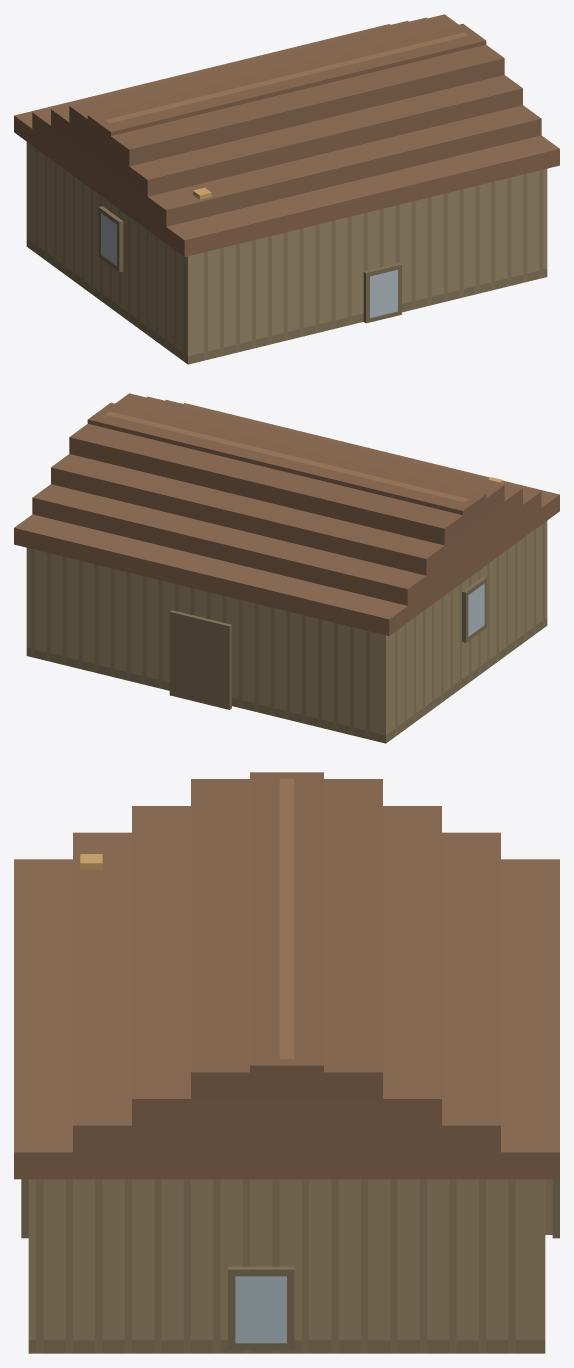
Rendered from alfareria_04.glb.
3 views of the same model, one above another, from view 1: azimuth 30°, elevation 25°; view 2: azimuth 150°, elevation 25°; view 3: azimuth 270°, elevation 25° (orthographic). The views are drawn at different scales.
Parts seen in each view (by area): view 1: alfareria_04; view 2: alfareria_04; view 3: alfareria_04.
Boxes of the visible parts, bbox=[...] form: alfareria_04: bbox=[14, 14, 559, 364]; alfareria_04: bbox=[14, 393, 559, 743]; alfareria_04: bbox=[14, 772, 559, 1353].
Size of the model in its own units: 9.4 by 4.4 by 7.4.
